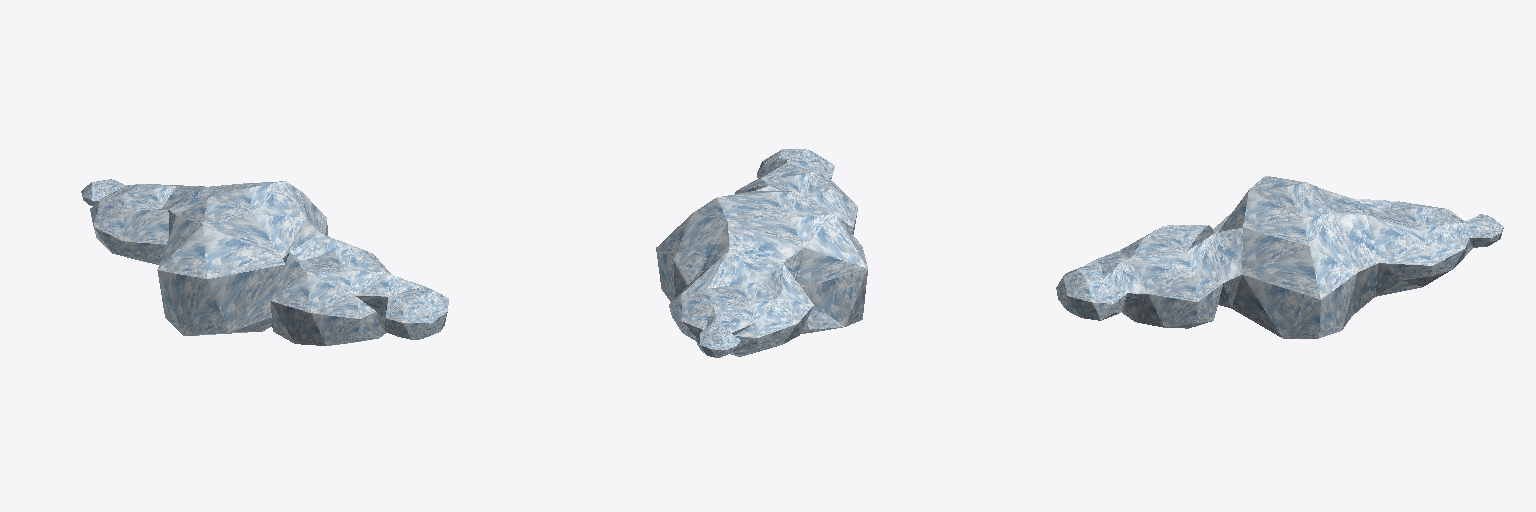
The picture shows the model from 3 angles: view 1: azimuth 30°, elevation 25°; view 2: azimuth 150°, elevation 25°; view 3: azimuth 270°, elevation 25°; orthographic projection.
Parts seen in each view (by area): view 1: Clouds; view 2: Clouds; view 3: Clouds.
Part boxes in pixels (x1,y1,x2,y2): Clouds: (81,179,448,345); Clouds: (656,149,867,357); Clouds: (1056,176,1503,338).
Size of the model in its own units: 227 by 146 by 442.
Materials: 1 (1 with a texture image).